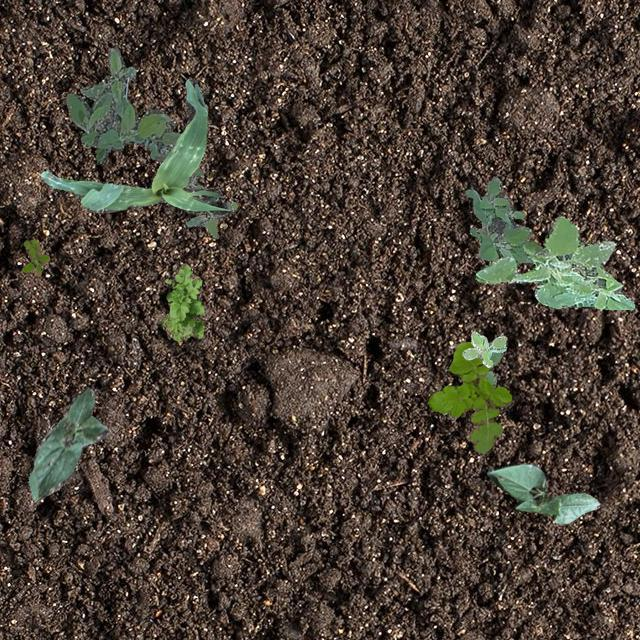crop: (39, 78, 228, 214), (28, 386, 106, 500), (486, 462, 600, 524)
weed: (474, 215, 634, 308), (64, 46, 180, 162), (428, 340, 510, 452), (464, 176, 534, 266), (184, 168, 237, 238), (162, 262, 204, 340), (462, 331, 506, 366), (22, 238, 48, 274), (482, 350, 502, 388)
